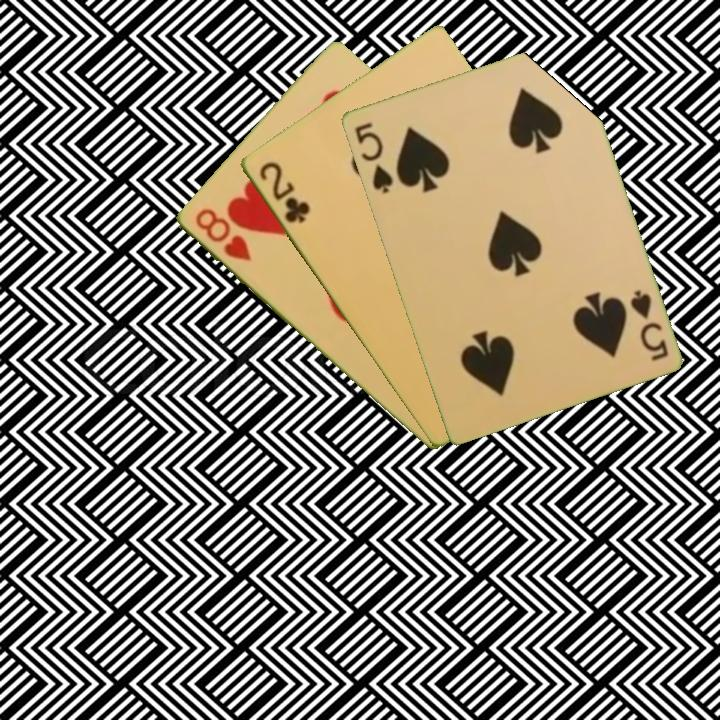2c: (255, 158, 313, 226)
5s: (350, 118, 396, 196), (626, 286, 671, 364)
8h: (191, 204, 254, 265)
